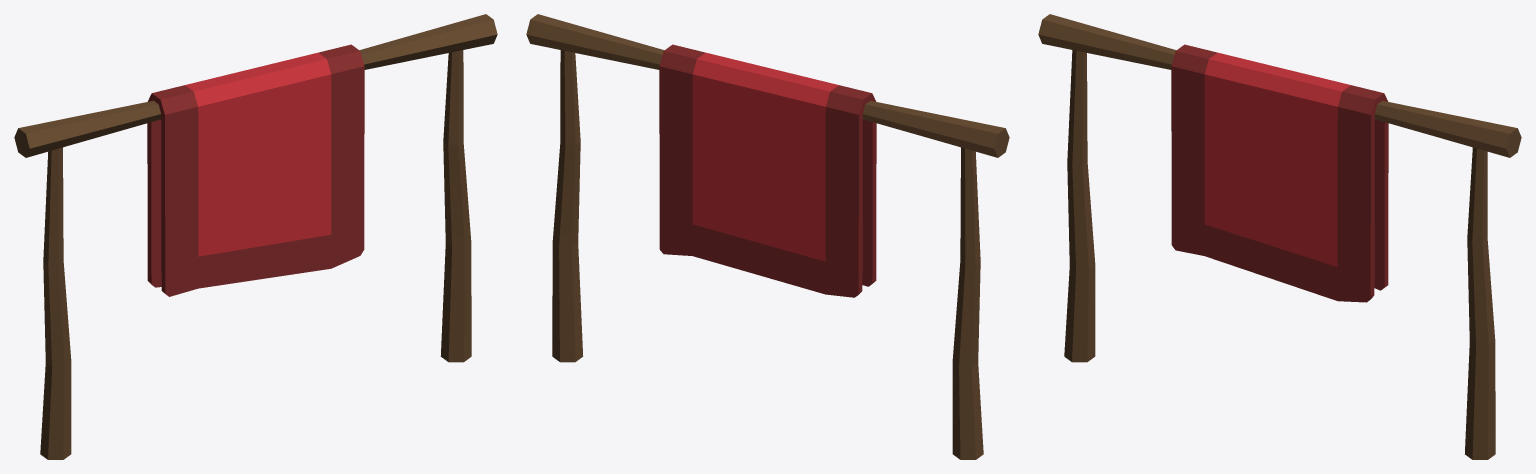
The model's file is egypt_egypt-rack.fbx.
3 views of the same model, side by side, from view 1: azimuth 30°, elevation 25°; view 2: azimuth 150°, elevation 25°; view 3: azimuth 330°, elevation 25° (orthographic).
Parts seen in each view (by area): view 1: egypt_egypt_rack; view 2: egypt_egypt_rack; view 3: egypt_egypt_rack.
Boxes of the visible parts, left/top/right/bottom form: egypt_egypt_rack: left=14, top=14, right=497, bottom=459; egypt_egypt_rack: left=526, top=14, right=1009, bottom=459; egypt_egypt_rack: left=1038, top=14, right=1521, bottom=459.
Bounding box in the file's own units: 200 × 136 × 13.12.
